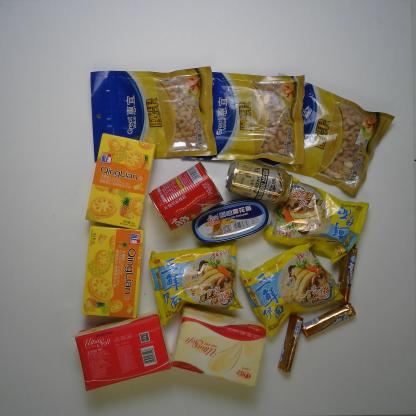Alcohol: (224, 157, 294, 206)
Candy: (302, 303, 360, 347), (326, 244, 365, 305), (277, 313, 306, 381)
Canned Food: (154, 161, 229, 232), (190, 193, 274, 252)
Dessert: (75, 223, 155, 329), (80, 131, 161, 231)
Dried Fruit: (258, 70, 394, 199), (180, 66, 313, 168), (87, 62, 217, 161)
Instant Noodles: (239, 243, 344, 338), (270, 173, 368, 262), (148, 240, 244, 322)
Tissue: (167, 307, 269, 399), (69, 313, 176, 394)
